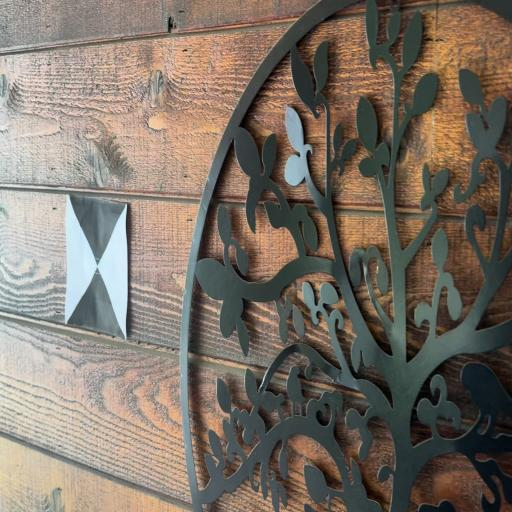target: (65, 194, 127, 338)
